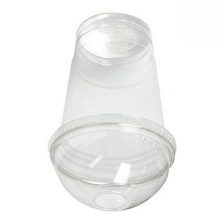glass: (40, 5, 184, 215)
